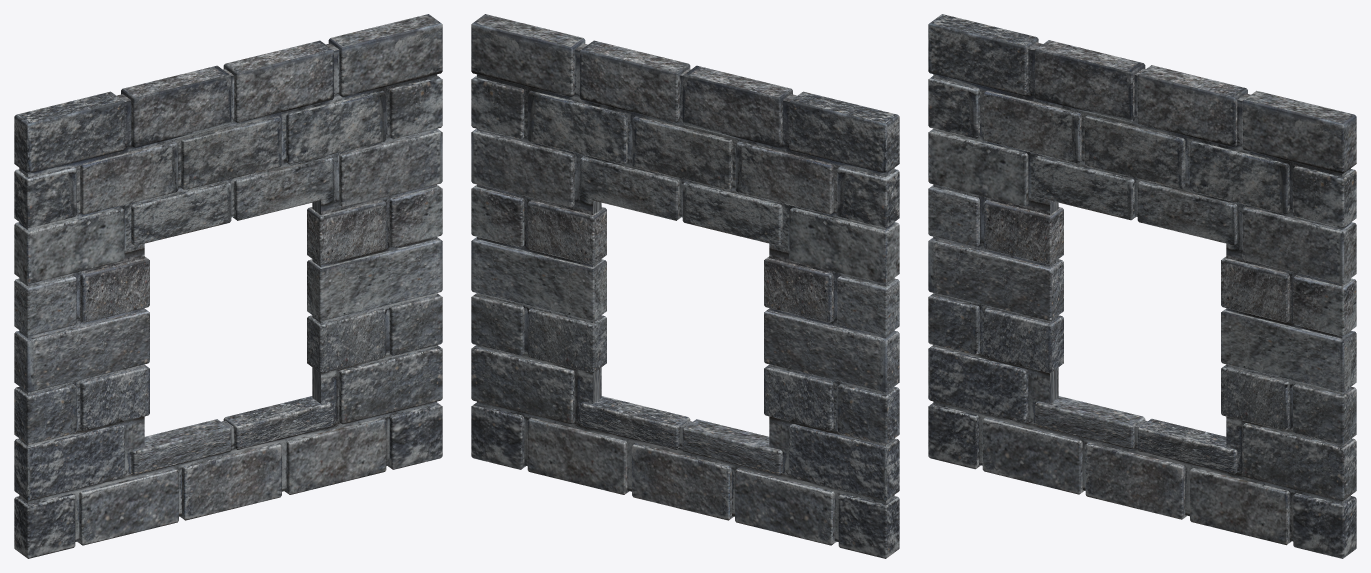
Rendered from WallBrickWindowA.fbx.
3 renders of one model, left to right at view 1: azimuth 30°, elevation 25°; view 2: azimuth 150°, elevation 25°; view 3: azimuth 330°, elevation 25°, orthographic.
Parts seen in each view (by area): view 1: WallBrickWindowA; view 2: WallBrickWindowA; view 3: WallBrickWindowA.
Boxes of the visible parts, left/top/right/bottom form: WallBrickWindowA: left=14, top=14, right=442, bottom=558; WallBrickWindowA: left=471, top=14, right=899, bottom=558; WallBrickWindowA: left=928, top=14, right=1356, bottom=558.
Bounding box in the file's own units: 374 × 374 × 22.
